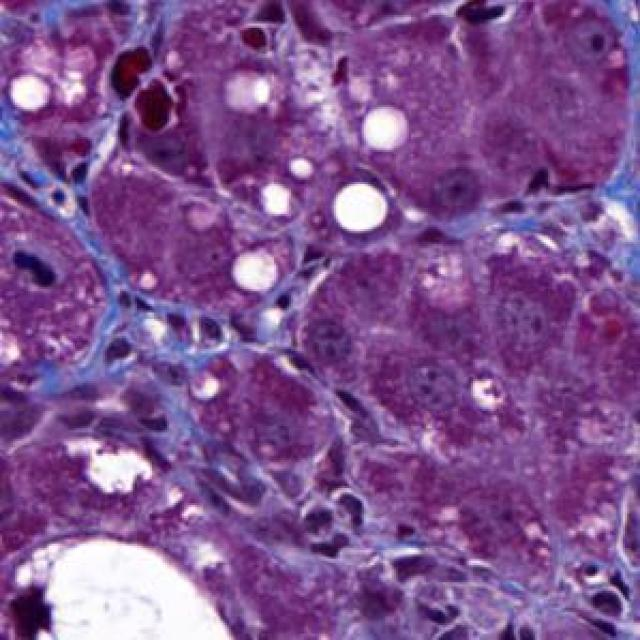ballooning: (11, 533, 238, 629)
